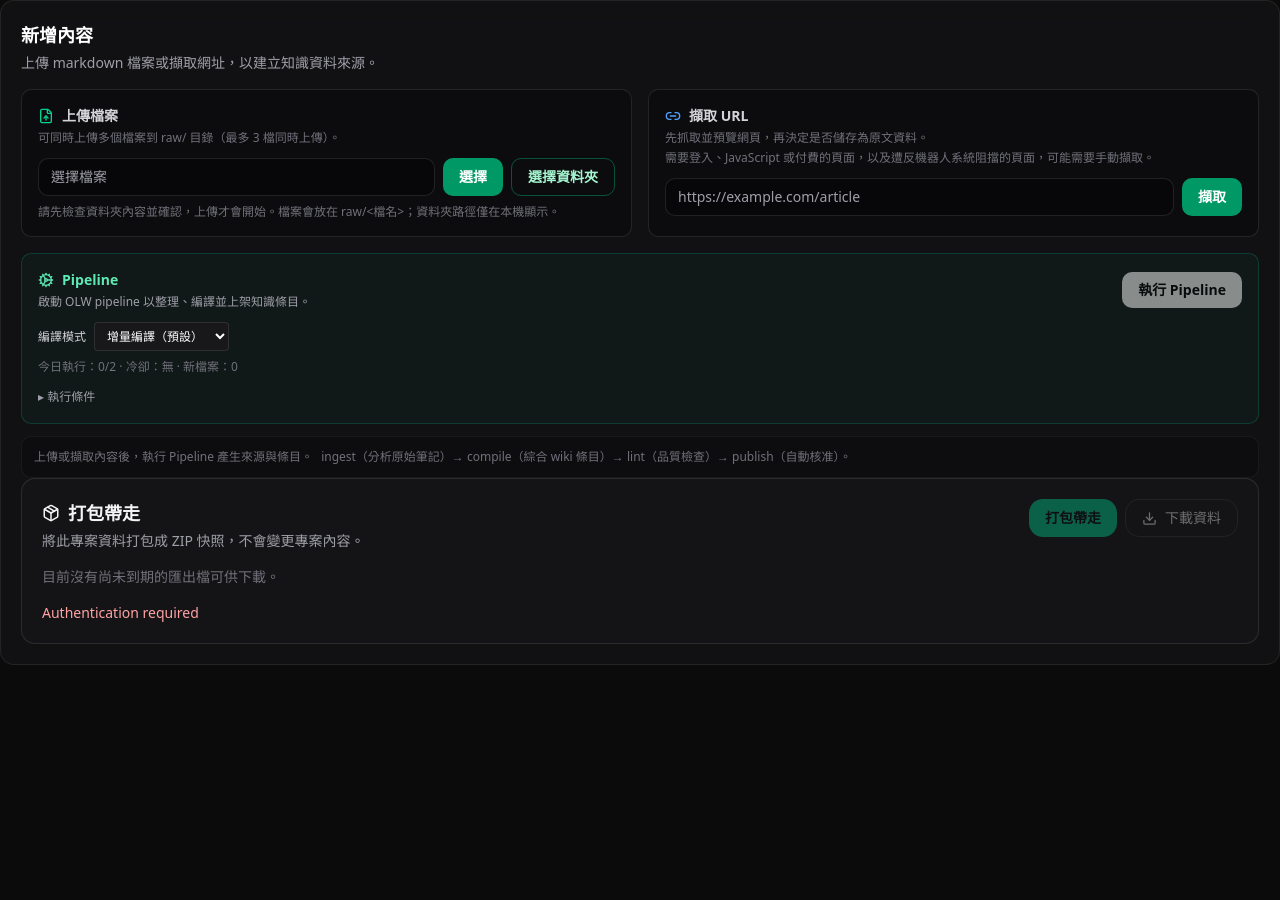
Test: LWC-391 full recompile › tracks the accepted execution and displays only its confirmed evidence
Select "全面重編譯" in the dropdown with test id "pipeline-compile-mode" at (162,336), box [94,322,229,351]
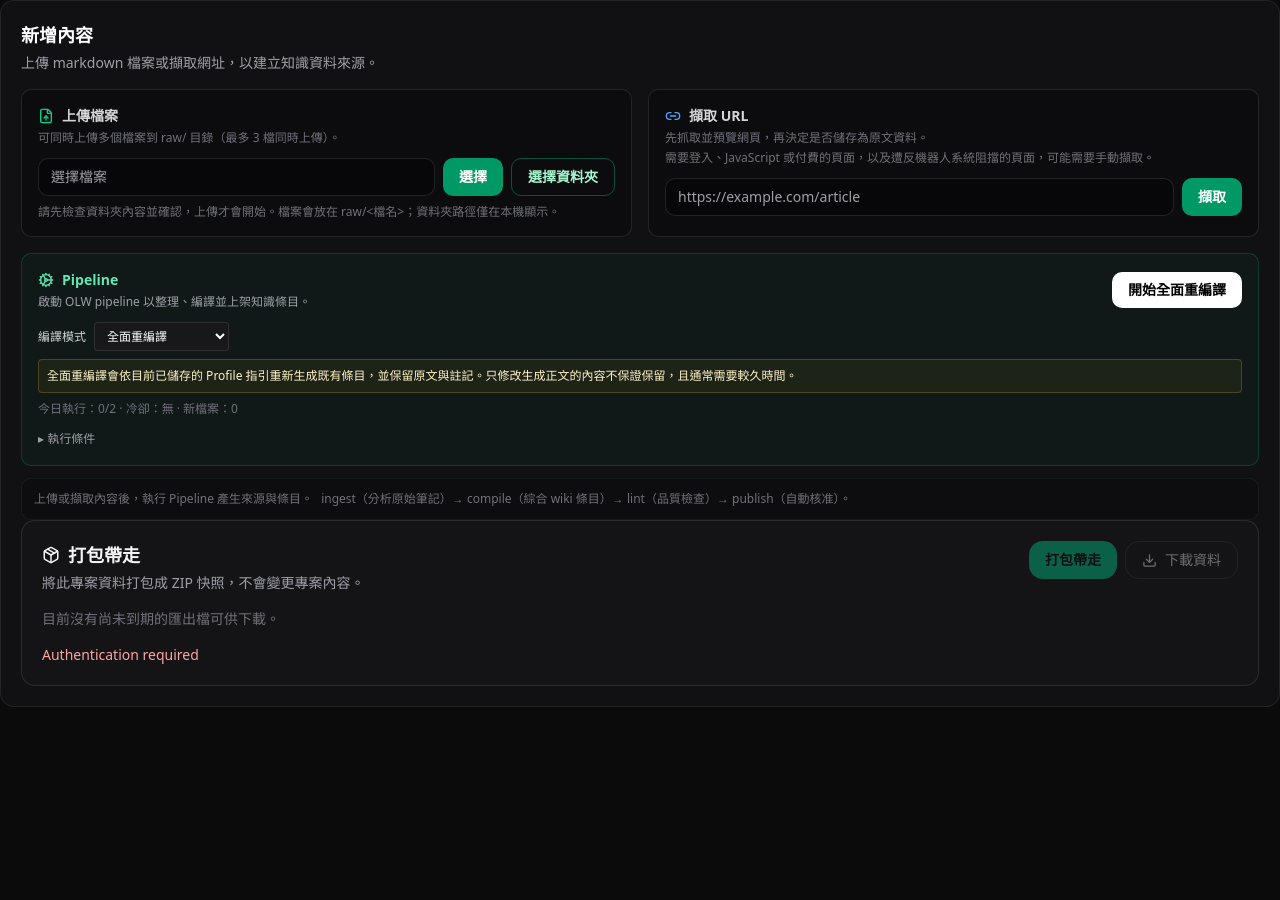
Click the button "開始全面重編譯" at (1177,290), box [1112,272,1242,308]
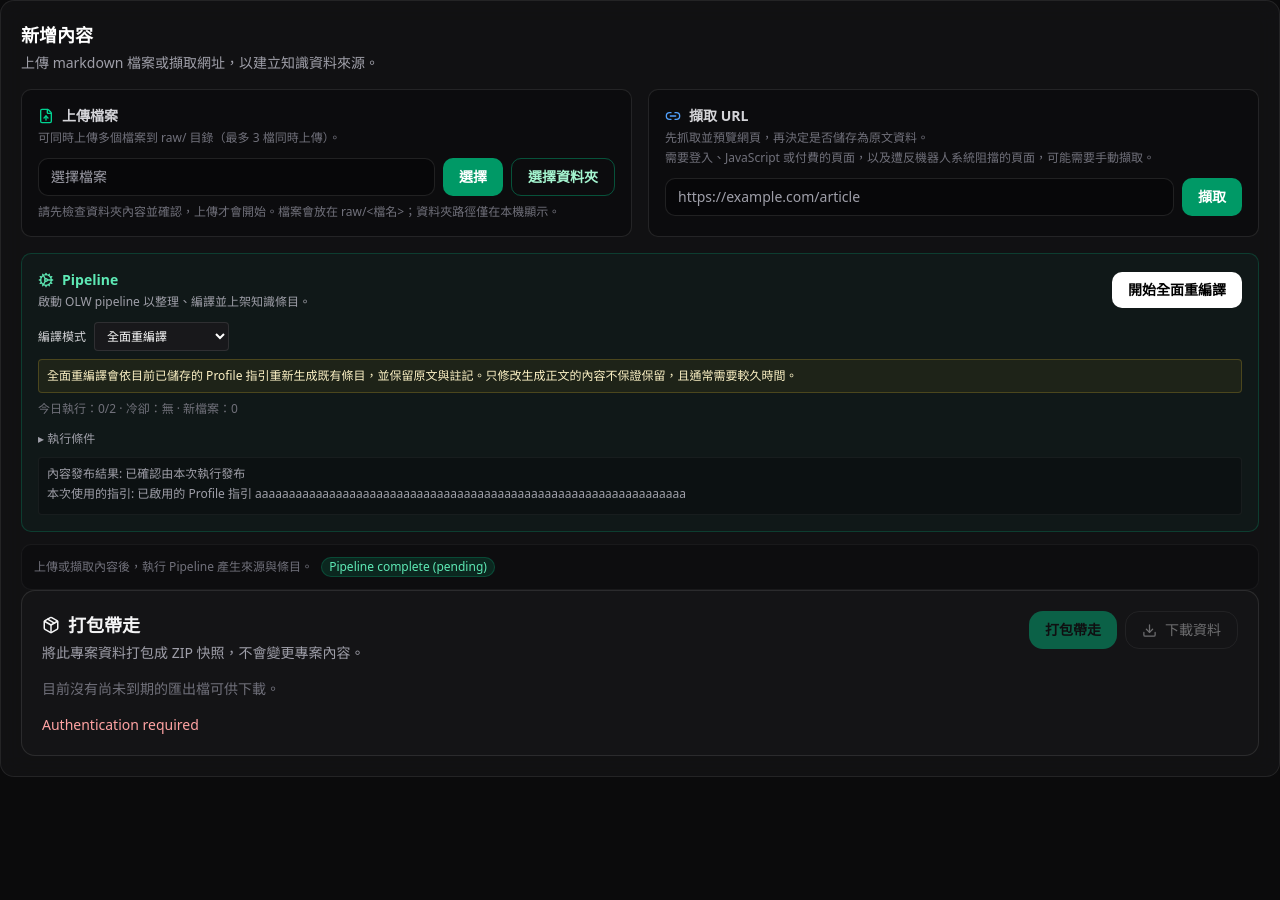
Result: the element with test id "pipeline-full-evidence" shows "已確認由本次執行發布" at [125,465,245,482]
